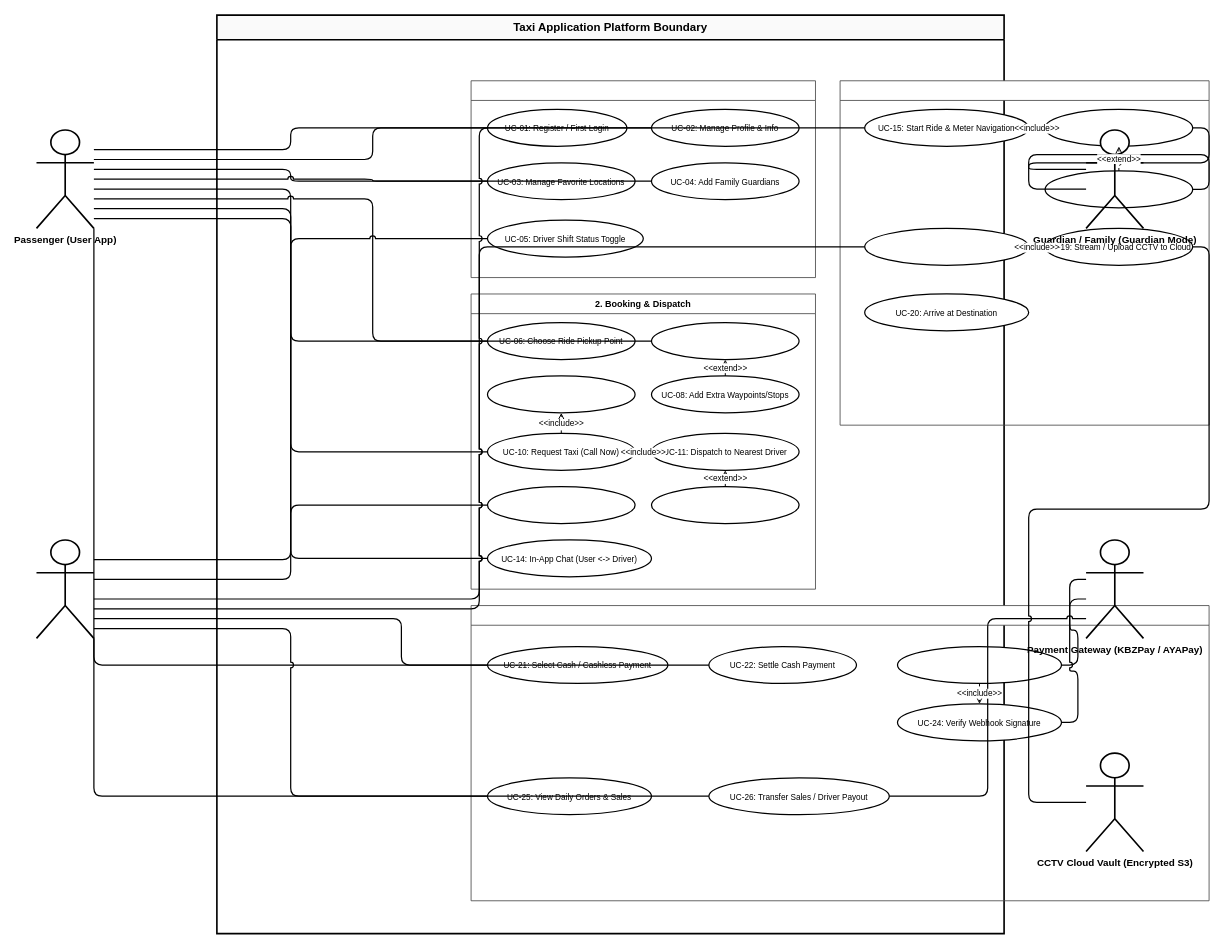
Some shapes in this 1225 by 948 pixel diagram are drawn without their labels. Each missing label, with the box of its shape:
1. Authentication & Profile: (470, 80, 815, 278)
3. Ride Safety & Monitoring: (839, 80, 1209, 425)
4. Payment & Settlement: (470, 605, 1209, 901)
Driver (Driver App): (35, 539, 94, 639)
UC-07: Choose Destination Point: (651, 322, 799, 360)
UC-09: Calculate Fare & Route: (487, 375, 635, 413)
UC-12: Cascade to Next Driver: (651, 486, 799, 524)
UC-13: Accept / Reject Ride: (487, 486, 635, 524)
UC-16: Activate Guardian Live Stream: (1044, 108, 1193, 147)
UC-17: Detect Route Deviation Alert: (1044, 170, 1193, 208)
UC-18: Protecting Mode: Record CCTV: (864, 227, 1029, 266)
UC-23: Pay via E-Wallet Deep-Link: (897, 646, 1062, 684)
